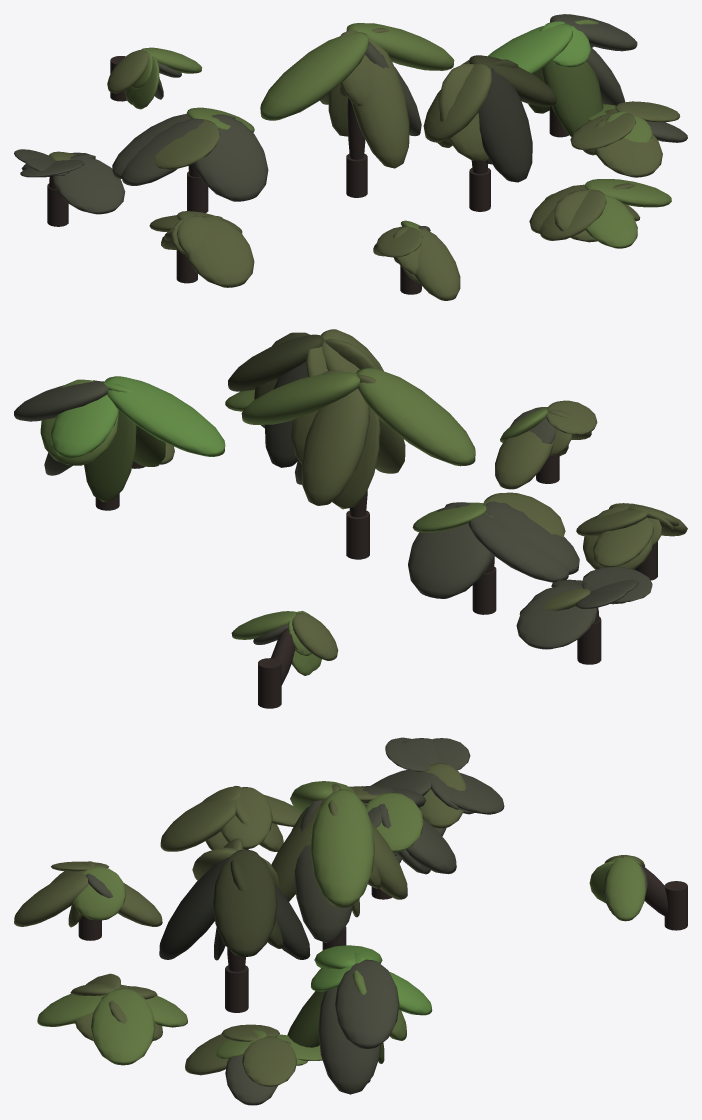
The model's file is CMU3DRMCBushc1.glb.
3 views of the same model, one above another, from view 1: azimuth 30°, elevation 25°; view 2: azimuth 150°, elevation 25°; view 3: azimuth 270°, elevation 25° (orthographic). The views are drawn at different scales.
Parts seen in each view (by area): view 1: tuft 3 source leaf 0, tuft 3 source leaf 4, tuft 4 source leaf 4, tuft 2 source leaf 4, tuft 6 source leaf 4, tuft 5 source leaf 4, tuft 1 source leaf 4, tuft 4 source leaf 0, tuft 3 source leaf 3, tuft 5 source leaf 0, tuft 7 source leaf 4, tuft 9 source leaf 4 (+34 smaller); view 2: tuft 3 source leaf 0, tuft 3 source leaf 5, tuft 5 source leaf 0, tuft 2 source leaf 5, tuft 3 source leaf 3, tuft 2 source leaf 1, tuft 5 source leaf 5, tuft 1 source leaf 5, tuft 5 source leaf 1, tuft 4 source leaf 3, tuft 7 source leaf 5, tuft 5 source leaf 3 (+26 smaller); view 3: tuft 3 source leaf 3, tuft 4 source leaf 3, tuft 5 source leaf 3, tuft 8 source leaf 3, tuft 5 source leaf 2, tuft 4 source leaf 4, tuft 3 source leaf 2, tuft 6 source leaf 4, tuft 9 source leaf 3, tuft 0 source leaf 3, tuft 7 source leaf 4, tuft 2 source leaf 3 (+31 smaller).
Part boxes in pixels (<box>): tuft 3 source leaf 0: <box>260,32,368,120</box>; tuft 3 source leaf 4: <box>351,37,409,168</box>; tuft 4 source leaf 4: <box>478,68,532,182</box>; tuft 2 source leaf 4: <box>193,114,268,201</box>; tuft 6 source leaf 4: <box>185,216,254,287</box>; tuft 5 source leaf 4: <box>541,61,603,136</box>; tuft 1 source leaf 4: <box>53,156,125,214</box>; tuft 4 source leaf 0: <box>423,63,492,142</box>; tuft 3 source leaf 3: <box>346,23,454,70</box>; tuft 5 source leaf 0: <box>488,23,572,73</box>; tuft 7 source leaf 4: <box>414,229,460,300</box>; tuft 9 source leaf 4: <box>594,119,662,177</box>; tuft 3 source leaf 0: <box>356,367,475,466</box>; tuft 3 source leaf 5: <box>301,388,369,505</box>; tuft 5 source leaf 0: <box>105,376,225,456</box>; tuft 2 source leaf 5: <box>408,523,491,598</box>; tuft 3 source leaf 3: <box>241,372,359,424</box>; tuft 2 source leaf 1: <box>468,513,569,582</box>; tuft 5 source leaf 5: <box>51,396,119,458</box>; tuft 1 source leaf 5: <box>516,595,594,649</box>; tuft 5 source leaf 1: <box>84,410,136,501</box>; tuft 4 source leaf 3: <box>228,334,324,391</box>; tuft 7 source leaf 5: <box>495,431,554,489</box>; tuft 5 source leaf 3: <box>14,380,108,421</box>; tuft 3 source leaf 3: <box>310,789,374,907</box>; tuft 4 source leaf 3: <box>213,849,277,956</box>; tuft 5 source leaf 3: <box>335,959,399,1048</box>; tuft 8 source leaf 3: <box>91,988,155,1065</box>; tuft 5 source leaf 2: <box>318,987,381,1094</box>; tuft 4 source leaf 4: <box>159,857,229,959</box>; tuft 3 source leaf 2: <box>294,800,353,942</box>; tuft 6 source leaf 4: <box>160,799,240,851</box>; tuft 9 source leaf 3: <box>242,1036,296,1086</box>; tuft 0 source leaf 3: <box>604,857,646,921</box>; tuft 7 source leaf 4: <box>14,874,88,926</box>; tuft 2 source leaf 3: <box>365,792,423,852</box>.
Size of the model in its own units: 0.9482 by 0.2505 by 0.8628.
